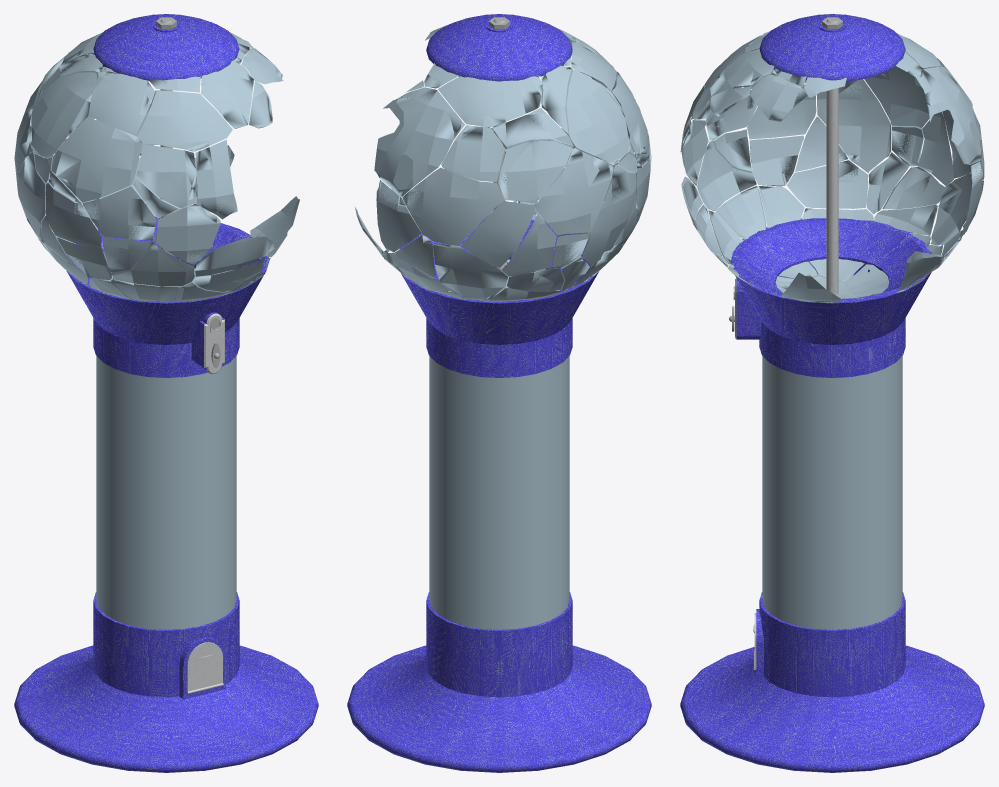
File: gumball-machine-broken.glb
3 views of the same model, side by side, from view 1: azimuth 30°, elevation 25°; view 2: azimuth 150°, elevation 25°; view 3: azimuth 270°, elevation 25° (orthographic).
Parts seen in each view (by area): view 1: SketchUp.012, SketchUp.025, SketchUp.003, SketchUp.237, Sphere_cell.022, Sphere_cell.031, Sphere_cell.130, Sphere_cell.163, Sphere_cell.057, Sphere_cell.078, Sphere_cell.039, Sphere_cell.028 (+20 smaller); view 2: SketchUp.012, SketchUp.025, SketchUp.003, SketchUp.237, Sphere_cell.157, Sphere_cell.119, Sphere_cell.048, Sphere_cell.130, Sphere_cell.092, Sphere_cell.109, Sphere_cell.068, Sphere_cell.129 (+15 smaller); view 3: SketchUp.012, SketchUp.025, SketchUp.003, SketchUp.237, SketchUp.002, Sphere_cell.090, Sphere_cell.157, SketchUp.004, Sphere_cell.016, Sphere_cell.048, Sphere_cell.123, Sphere_cell.014 (+28 smaller).
Boxes of the visible parts, x1=… form: SketchUp.012: x1=96, y1=356, x2=236, y2=629; SketchUp.025: x1=14, y1=592, x2=318, y2=772; SketchUp.003: x1=66, y1=216, x2=269, y2=377; SketchUp.237: x1=93, y1=14, x2=239, y2=81; Sphere_cell.022: x1=51, y1=117, x2=141, y2=202; Sphere_cell.031: x1=137, y1=90, x2=232, y2=151; Sphere_cell.130: x1=31, y1=72, x2=96, y2=157; Sphere_cell.163: x1=89, y1=71, x2=154, y2=134; Sphere_cell.057: x1=136, y1=144, x2=196, y2=208; Sphere_cell.078: x1=154, y1=204, x2=220, y2=264; Sphere_cell.039: x1=82, y1=186, x2=156, y2=240; Sphere_cell.028: x1=195, y1=139, x2=237, y2=219; SketchUp.012: x1=429, y1=356, x2=569, y2=629; SketchUp.025: x1=347, y1=592, x2=651, y2=772; SketchUp.003: x1=399, y1=218, x2=598, y2=377; SketchUp.237: x1=426, y1=14, x2=572, y2=81; Sphere_cell.157: x1=374, y1=87, x2=465, y2=196; Sphere_cell.119: x1=402, y1=167, x2=503, y2=244; Sphere_cell.048: x1=534, y1=148, x2=613, y2=235; Sphere_cell.130: x1=566, y1=70, x2=630, y2=163; Sphere_cell.092: x1=438, y1=76, x2=542, y2=127; Sphere_cell.109: x1=498, y1=140, x2=572, y2=203; Sphere_cell.068: x1=460, y1=200, x2=534, y2=267; Sphere_cell.129: x1=433, y1=242, x2=508, y2=300; SketchUp.012: x1=762, y1=356, x2=902, y2=629; SketchUp.025: x1=680, y1=592, x2=984, y2=772; SketchUp.003: x1=731, y1=218, x2=931, y2=377; SketchUp.237: x1=759, y1=14, x2=905, y2=81; SketchUp.002: x1=739, y1=220, x2=923, y2=292; Sphere_cell.090: x1=817, y1=79, x2=891, y2=172; Sphere_cell.157: x1=921, y1=67, x2=981, y2=164; SketchUp.004: x1=826, y1=88, x2=838, y2=294; Sphere_cell.016: x1=787, y1=160, x2=868, y2=208; Sphere_cell.048: x1=864, y1=67, x2=929, y2=127; Sphere_cell.123: x1=697, y1=141, x2=756, y2=210; Sphere_cell.014: x1=749, y1=135, x2=803, y2=186.
Bounding box in the file's own units: 0.635 × 1.59 × 0.635.
